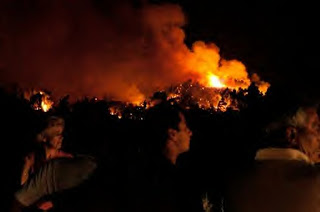fire: (151, 36, 254, 98)
